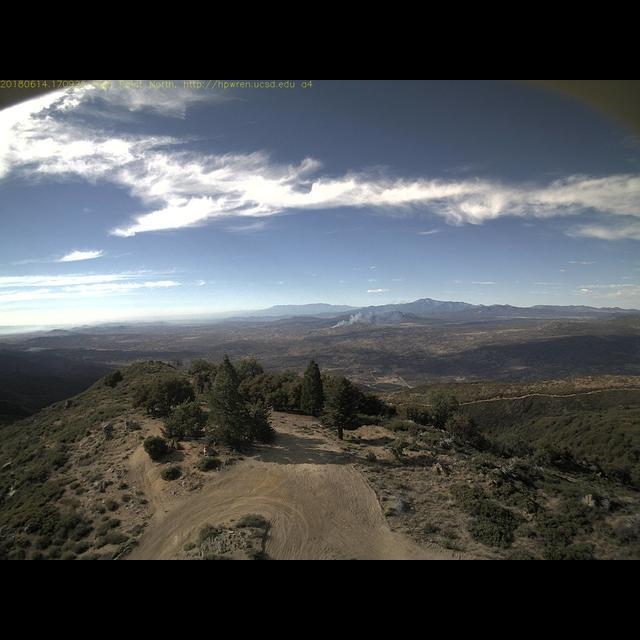Smoke: (322, 307, 395, 333)
